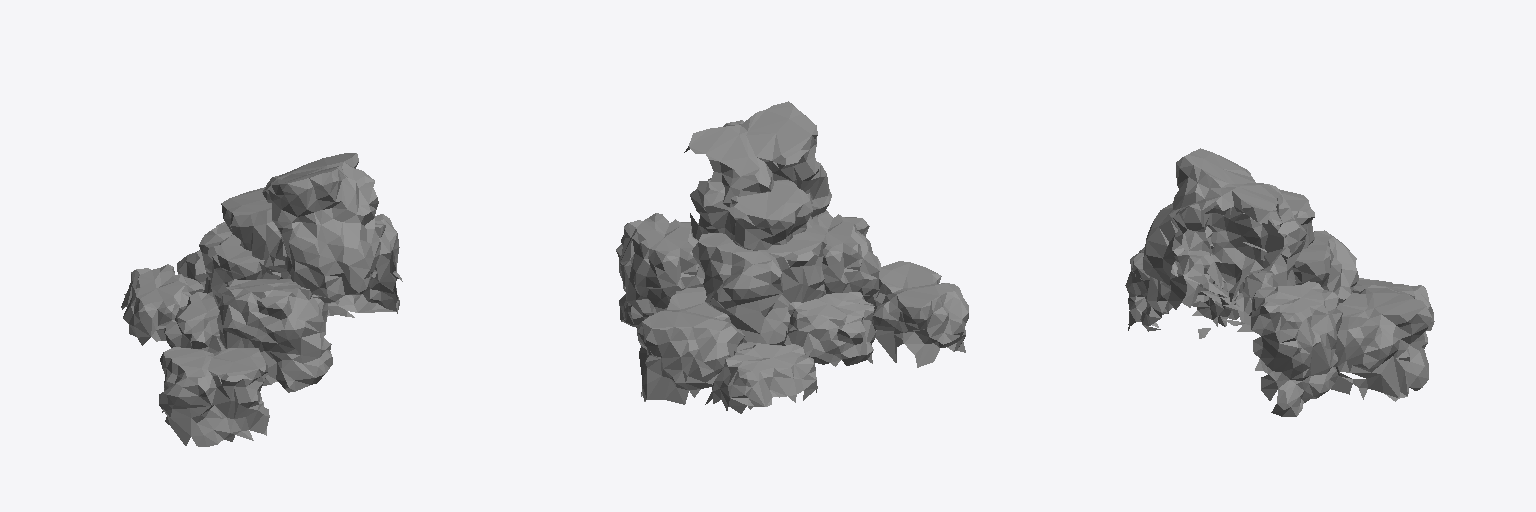
The model's file is RockPile.obj.
The picture shows the model from 3 angles: view 1: azimuth 30°, elevation 25°; view 2: azimuth 150°, elevation 25°; view 3: azimuth 270°, elevation 25°; orthographic projection.
Visible parts, largest first — view 1: SM_RockPile; view 2: SM_RockPile; view 3: SM_RockPile.
Boxes of the visible parts, x1,y1,x2,y2 form: SM_RockPile: [121, 153, 402, 446]; SM_RockPile: [616, 101, 968, 413]; SM_RockPile: [1125, 148, 1434, 416].
Size of the model in its own units: 5050 by 3709 by 4611.